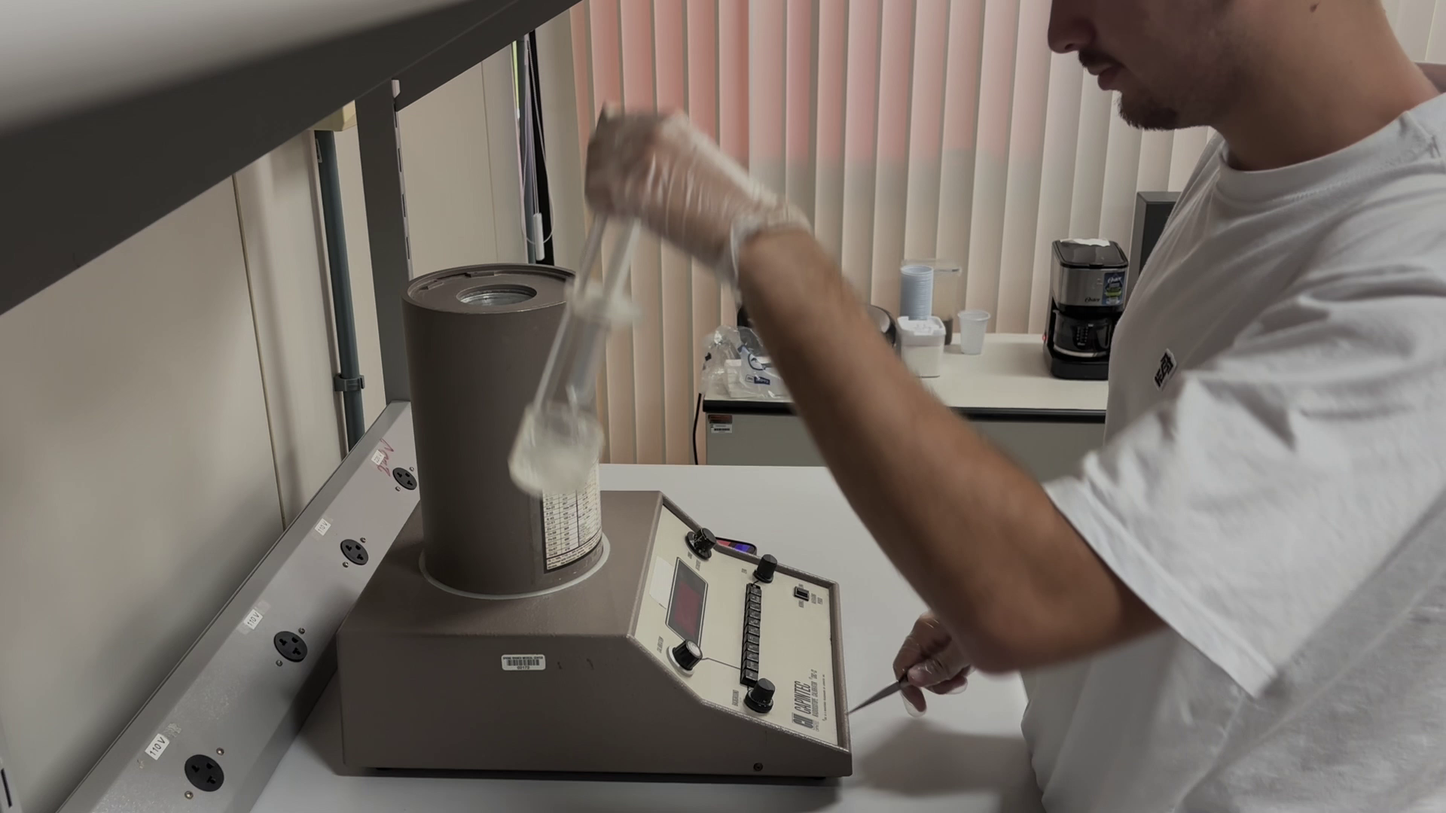Ativimetro: (399, 247, 610, 586)
Cesta: (503, 199, 642, 502)
